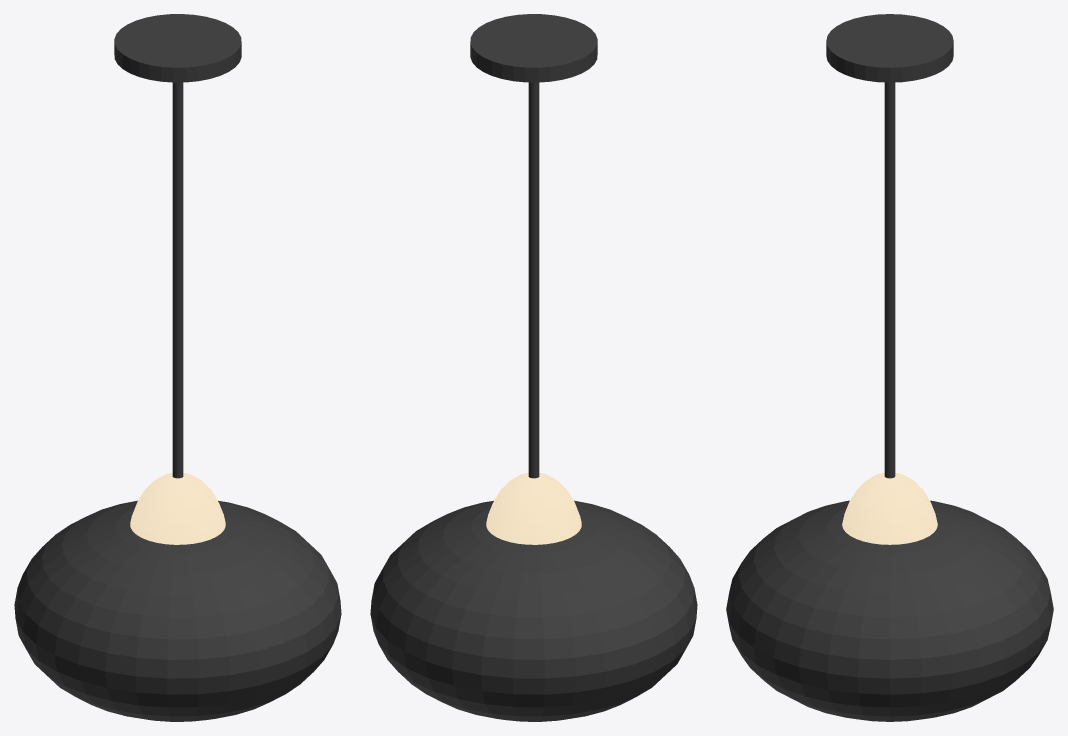
File: lamp3.glb
3 renders of one model, left to right at view 1: azimuth 30°, elevation 25°; view 2: azimuth 150°, elevation 25°; view 3: azimuth 270°, elevation 25°, orthographic.
Parts seen in each view (by area): view 1: L3_Shade, L3_Canopy, L3_Bulb, L3_Cord; view 2: L3_Shade, L3_Canopy, L3_Bulb, L3_Cord; view 3: L3_Shade, L3_Canopy, L3_Bulb, L3_Cord.
Part boxes in pixels (<box>): L3_Shade: <box>14,500,341,721</box>; L3_Canopy: <box>114,14,241,82</box>; L3_Bulb: <box>130,473,225,544</box>; L3_Cord: <box>172,82,183,478</box>; L3_Shade: <box>370,500,697,721</box>; L3_Canopy: <box>470,14,597,82</box>; L3_Bulb: <box>486,473,581,544</box>; L3_Cord: <box>528,82,539,478</box>; L3_Shade: <box>726,500,1053,721</box>; L3_Canopy: <box>826,14,953,82</box>; L3_Bulb: <box>842,473,937,544</box>; L3_Cord: <box>884,82,895,478</box>.
Bounding box in the file's own units: 0.36 × 0.797 × 0.36.
